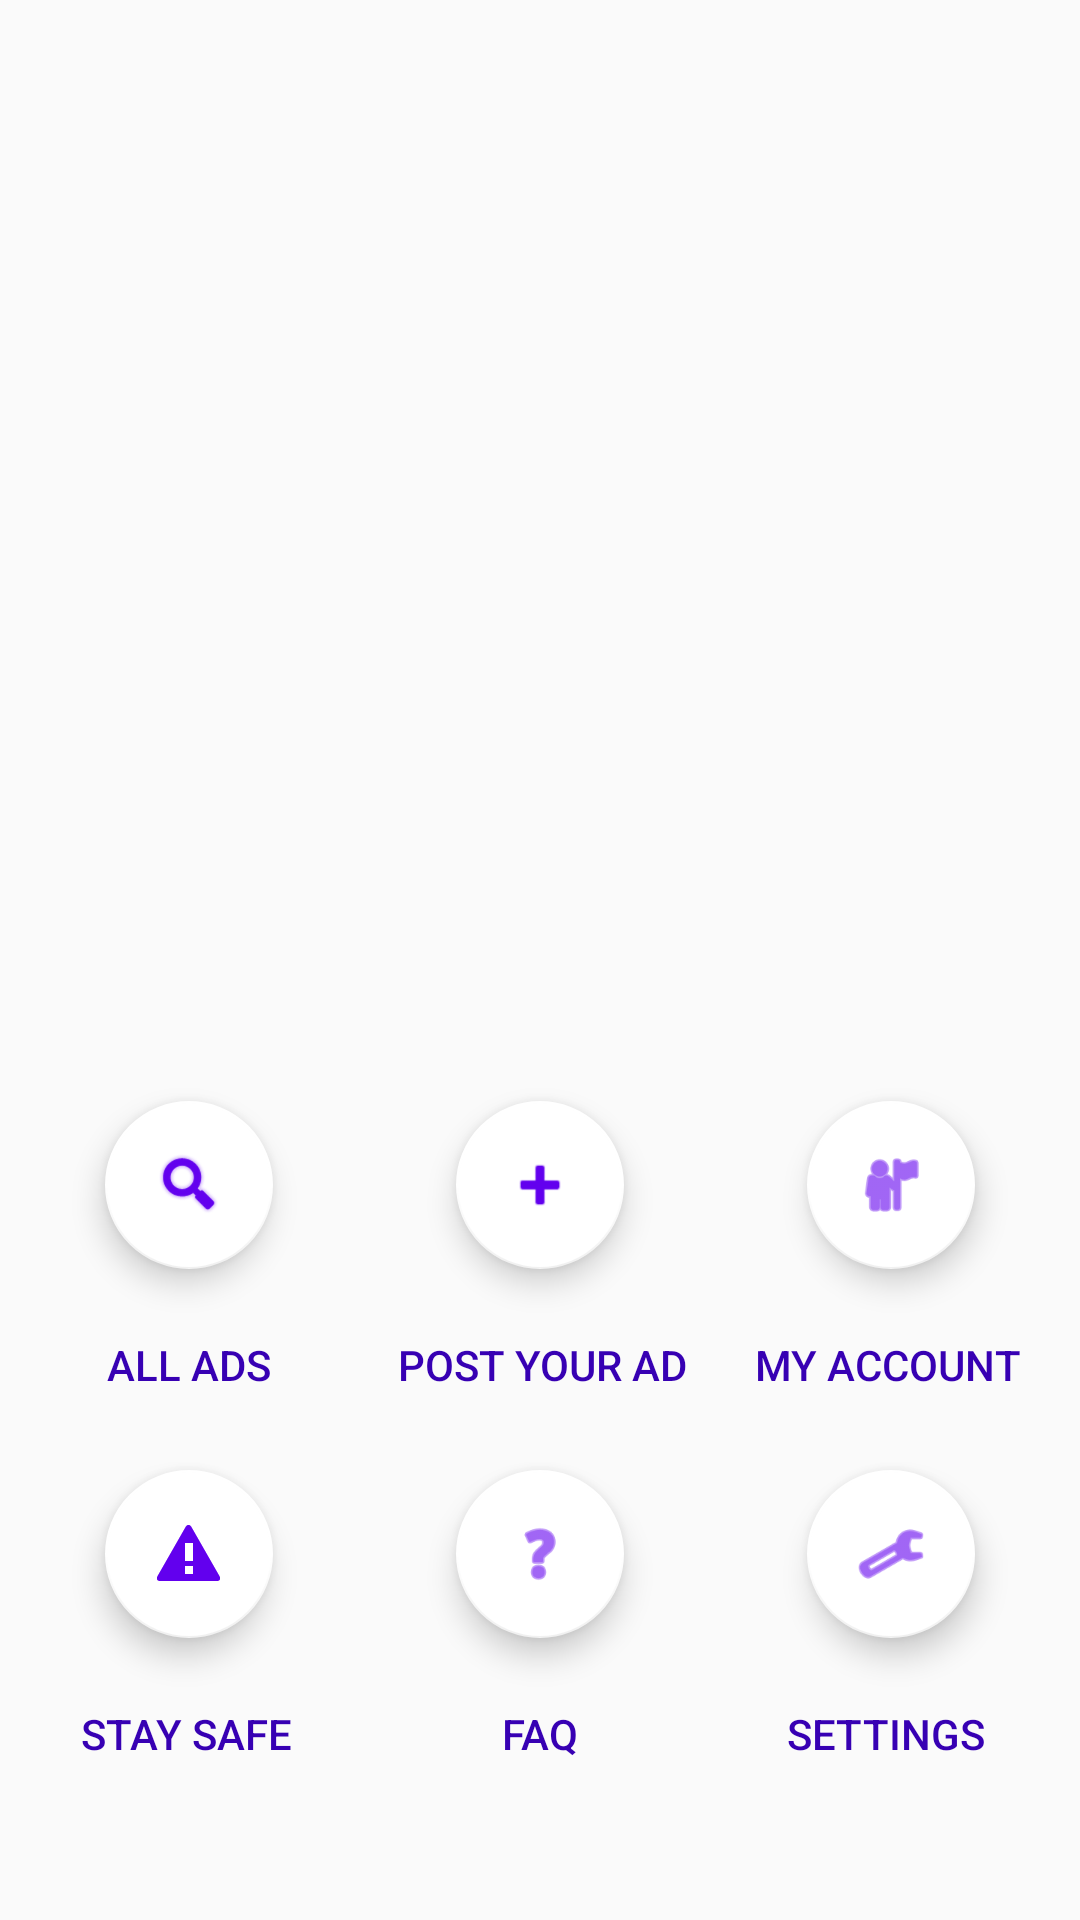

Where icons sit on this 1080*1920 app screen, as Rect(x1, y1, x2, y2):
add: Rect(456, 1165, 624, 1269)
help: Rect(456, 1528, 624, 1638)
myplaces: Rect(813, 1158, 975, 1222)
preferences: Rect(811, 1529, 923, 1586)
search category: Rect(105, 1157, 267, 1222)
warning: Rect(157, 1525, 269, 1586)
